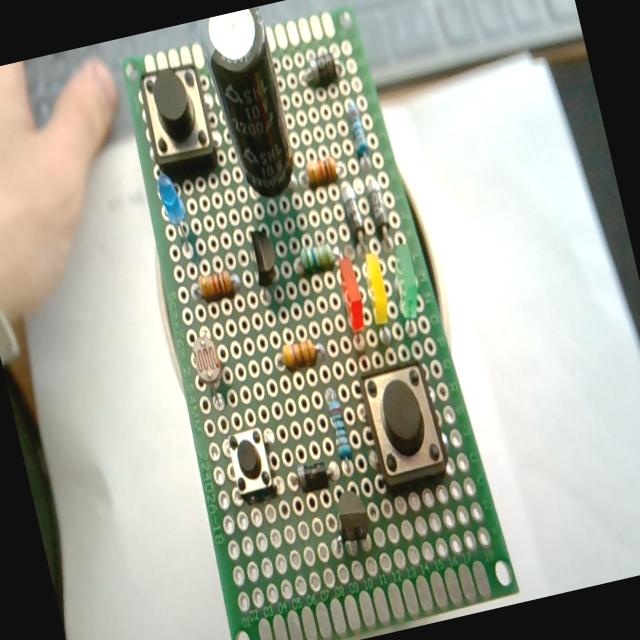Electrolytic capacitor: (196, 6, 304, 204)
cds: (187, 330, 230, 410)
diode: (296, 45, 344, 89), (338, 179, 368, 247), (362, 175, 390, 239), (292, 456, 340, 493)
led: (154, 166, 196, 258), (329, 254, 374, 335), (357, 243, 399, 329), (386, 239, 424, 319)
resistor: (344, 100, 391, 238), (320, 383, 360, 474), (277, 336, 324, 372), (196, 269, 238, 302), (296, 241, 336, 274), (304, 156, 338, 188)
switch: (356, 356, 451, 489), (136, 60, 220, 178), (224, 423, 278, 504)
transistor: (324, 489, 374, 554), (246, 225, 280, 287)
